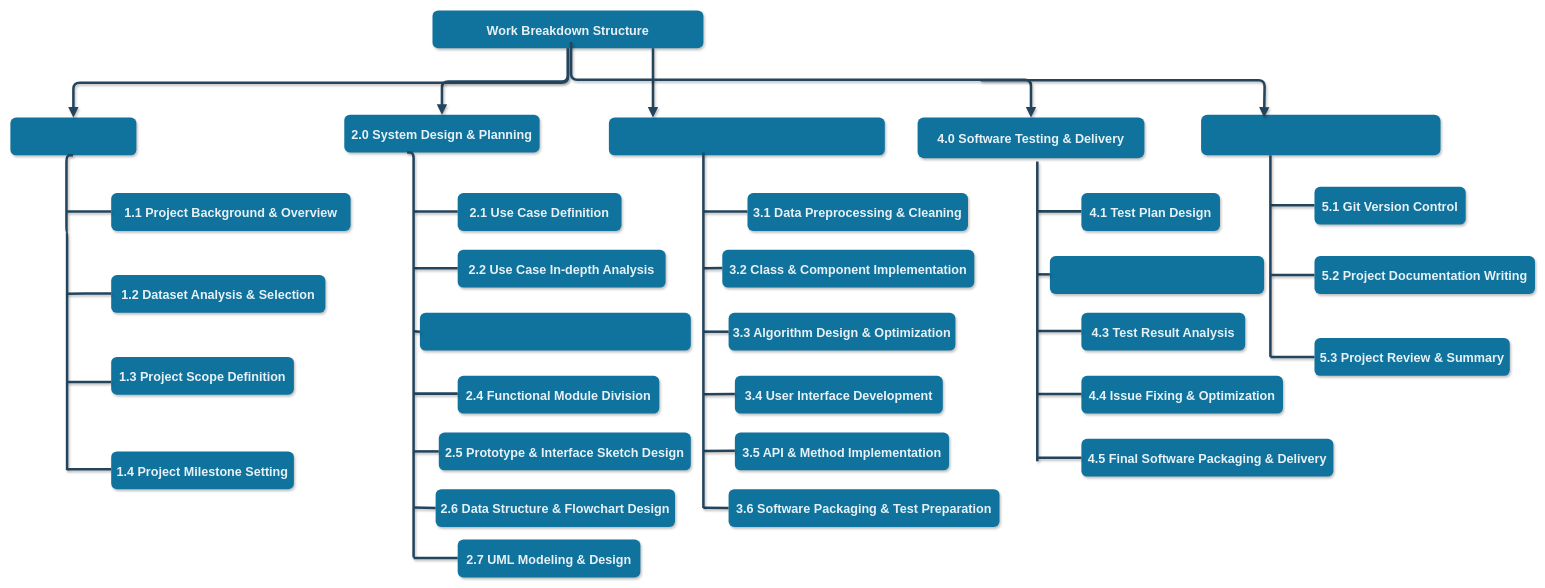
The diagram is 1545 pixels wide and 588 high, and some of its shapes have lost their labels. Each missing label, with the centre of its shape:
"1.0 Project Initiation" belongs at [74,137].
"2.3 User Interaction Requirement Analysis" belongs at [555,332].
"3.0 Software Development & Implementation" belongs at [747,137].
"4.2 Internal Testing & Verification" belongs at [1157,275].
"5.0 Version Control & Documentation" belongs at [1321,135].
